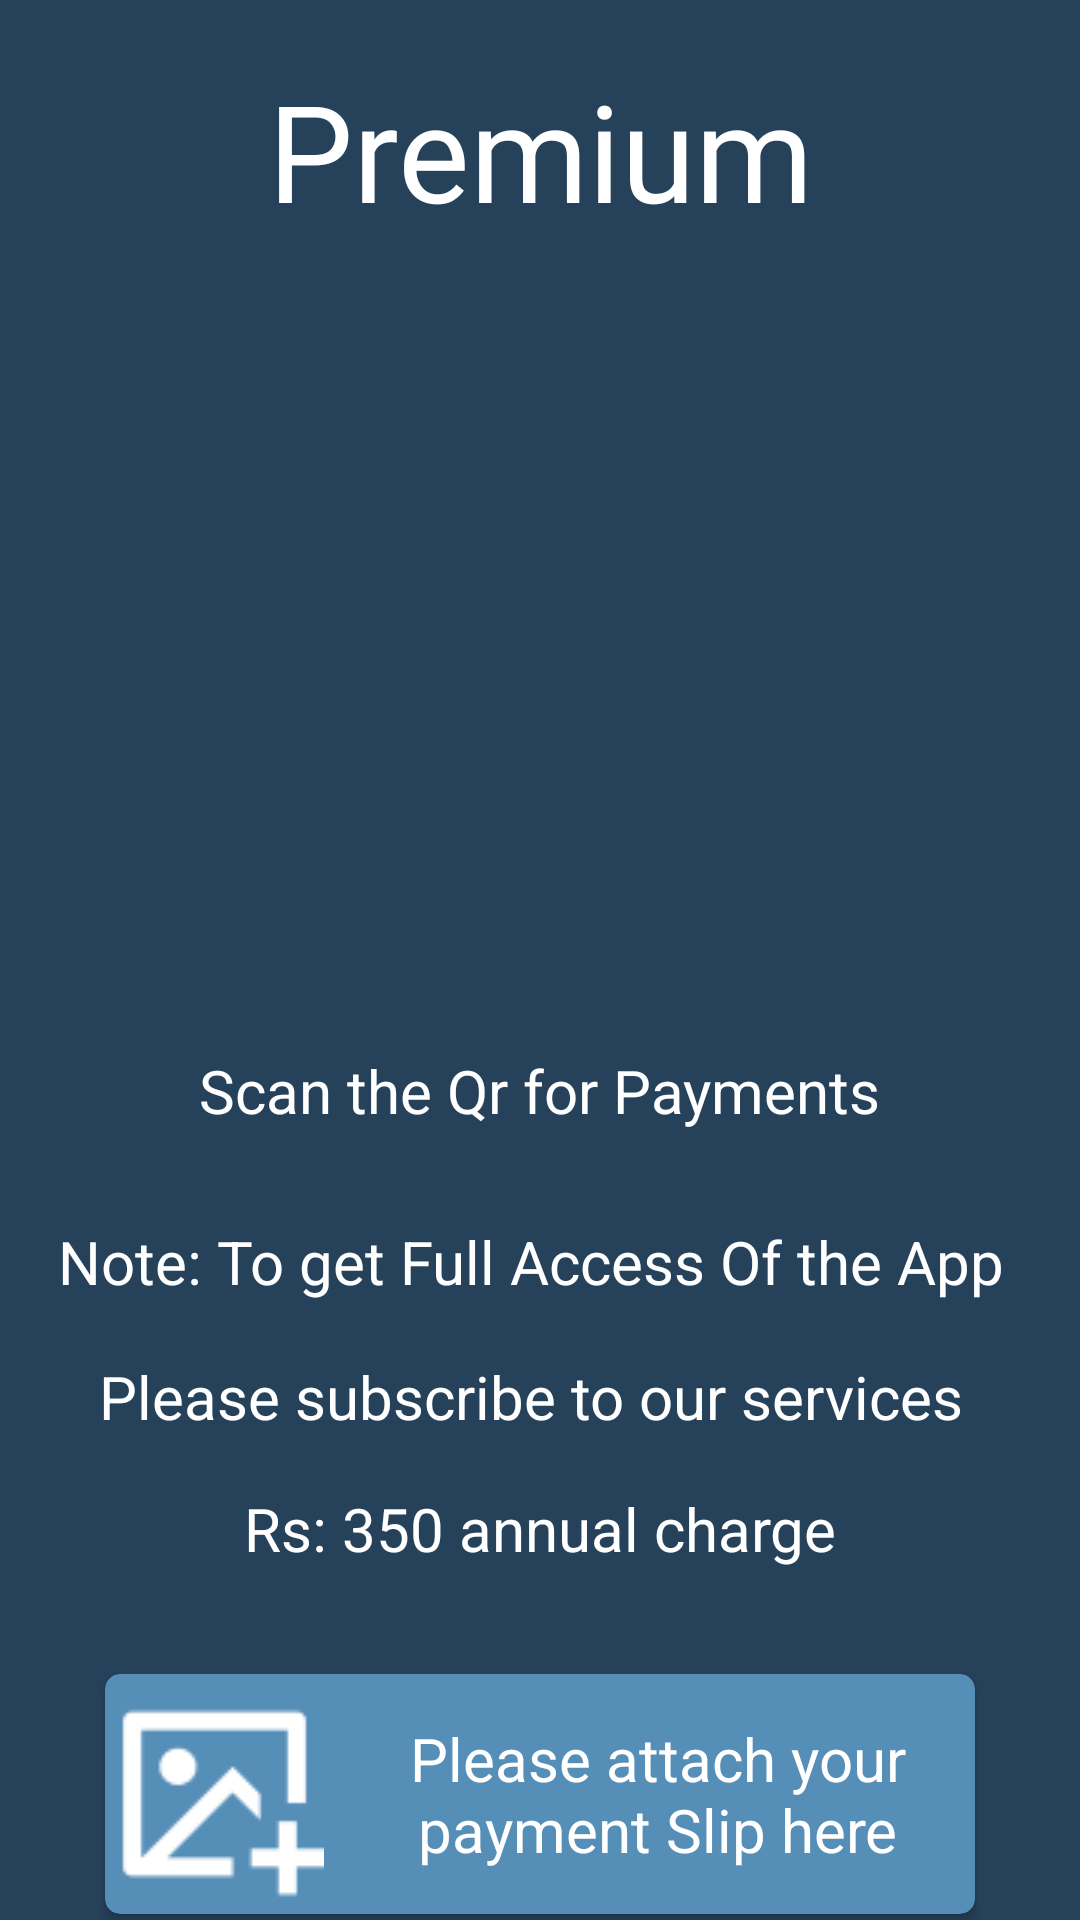

Point at icon controls on the screen. Image size 1080px×1920px, points as (x,y).
addpaymentslip: (223,1803)
